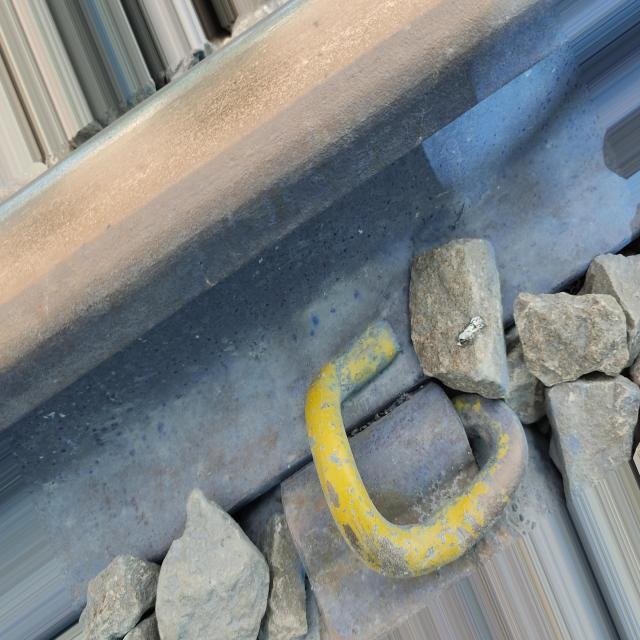Good Fasteners: (240, 298, 568, 640)
